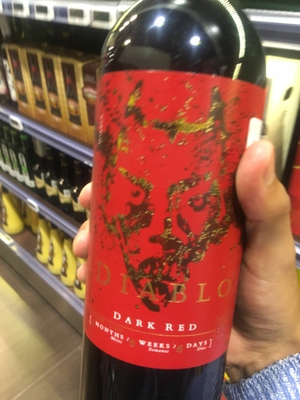diablo dark red: (83, 8, 260, 400)
